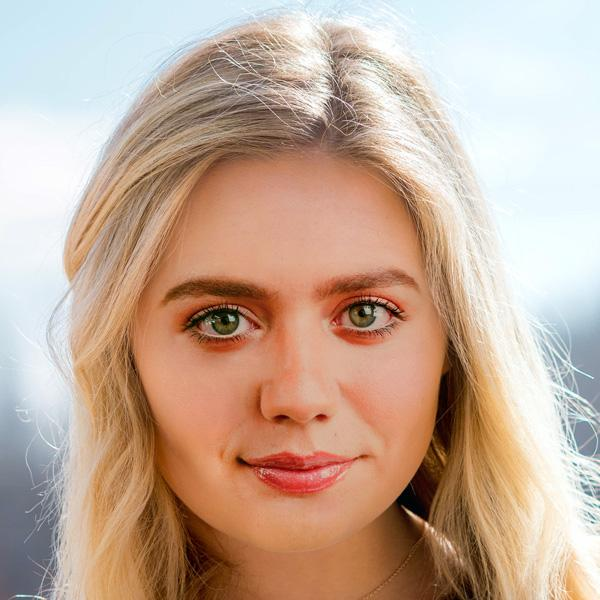Eyes: (169, 294, 275, 359), (323, 286, 415, 352)
